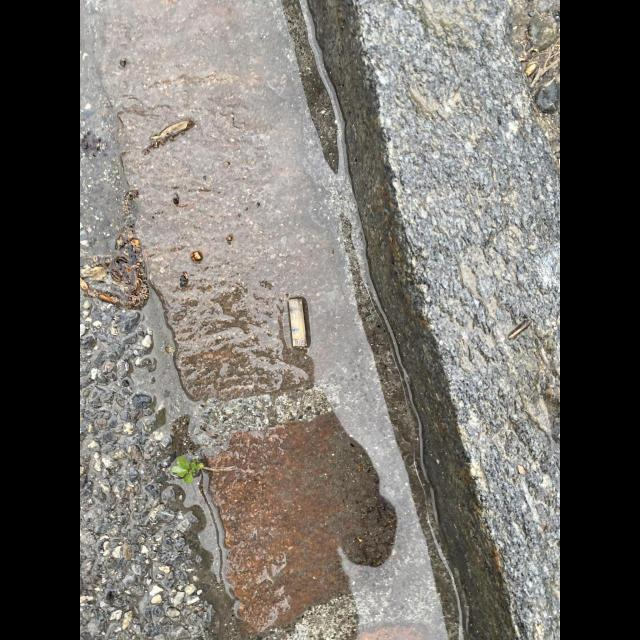cigarette: (288, 298, 308, 347)
